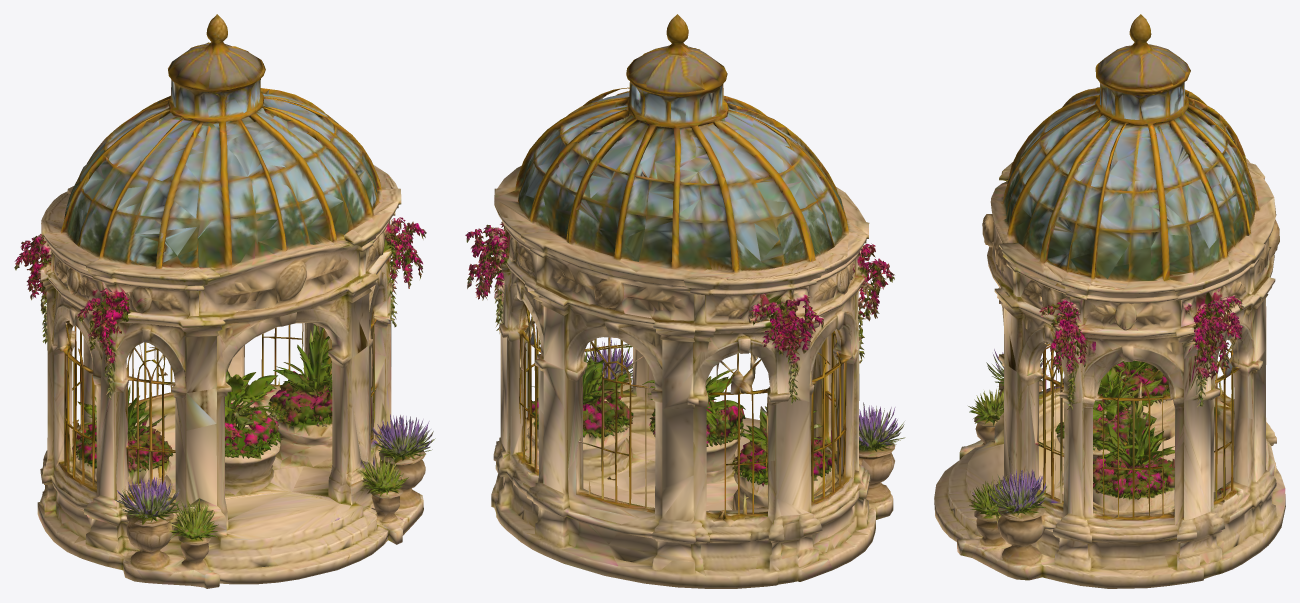
Rendered from cupula.glb.
3 views of the same model, side by side, from view 1: azimuth 30°, elevation 25°; view 2: azimuth 150°, elevation 25°; view 3: azimuth 270°, elevation 25° (orthographic). The views are drawn at different scales.
Visible parts, largest first — view 1: Mesh_0; view 2: Mesh_0; view 3: Mesh_0.
Boxes of the visible parts, <box> form: Mesh_0: <box>14,14,435,588</box>; Mesh_0: <box>465,14,905,588</box>; Mesh_0: <box>934,14,1285,588</box>.
Size of the model in its own units: 1.42 by 1.9 by 1.23.
1 material, 1 textured.
